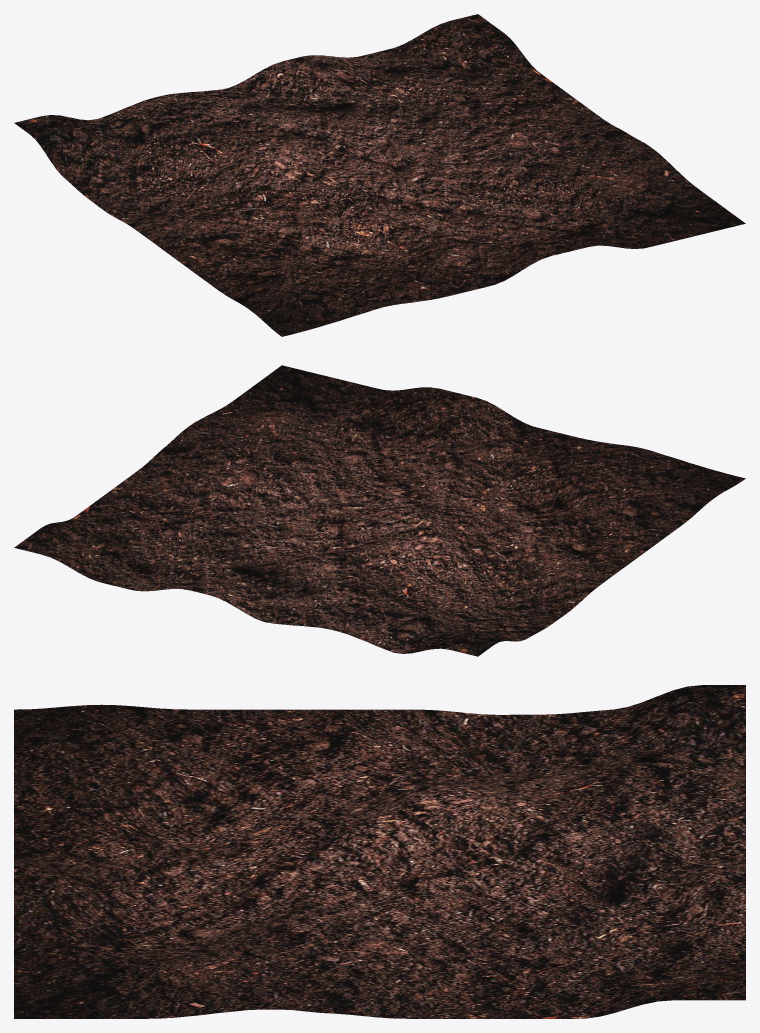
File: ground.fbx
3 views of the same model, one above another, from view 1: azimuth 30°, elevation 25°; view 2: azimuth 150°, elevation 25°; view 3: azimuth 270°, elevation 25° (orthographic). The views are drawn at different scales.
Visible parts, largest first — view 1: pPlane1; view 2: pPlane1; view 3: pPlane1.
Boxes of the visible parts, bbox=[...] form: pPlane1: bbox=[14, 14, 745, 336]; pPlane1: bbox=[14, 365, 745, 656]; pPlane1: bbox=[14, 685, 745, 1018].
Size of the model in its own units: 1500 by 96.34 by 1500.
1 material, 1 textured.
